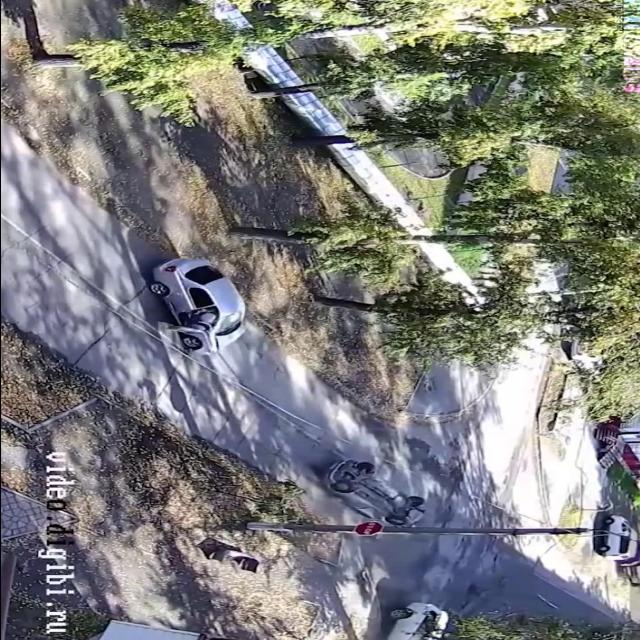accident: (304, 455, 435, 533)
